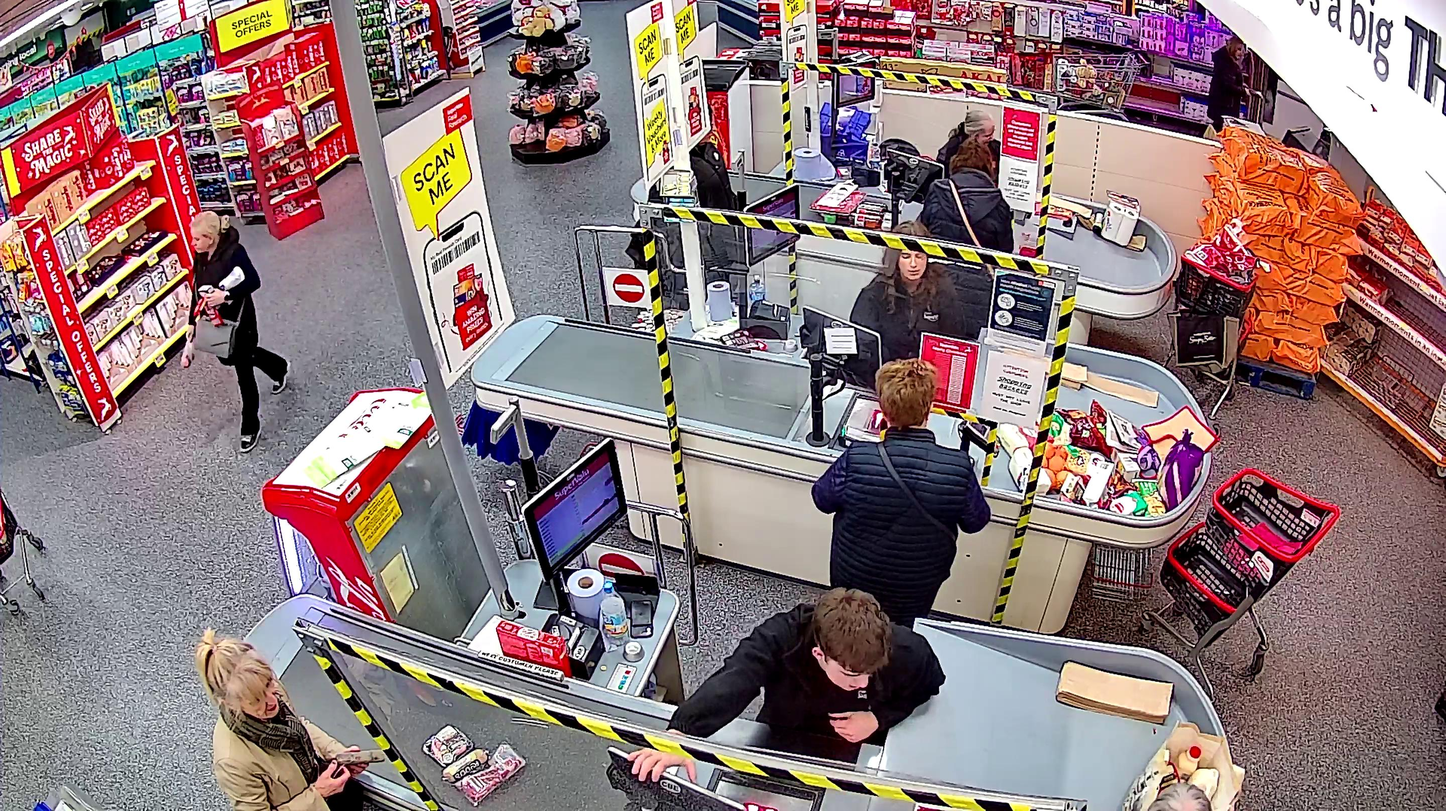backpack-or-handbag: (194, 317, 239, 359)
carrying-item: (192, 285, 234, 326), (180, 338, 195, 370)
occupied-checkout-counter: (520, 430, 947, 811), (737, 183, 1004, 467), (823, 58, 1038, 252)
person: (187, 211, 289, 454)
person-with-backpack-handbag-and-carrying-item-s-: (179, 210, 289, 455)
